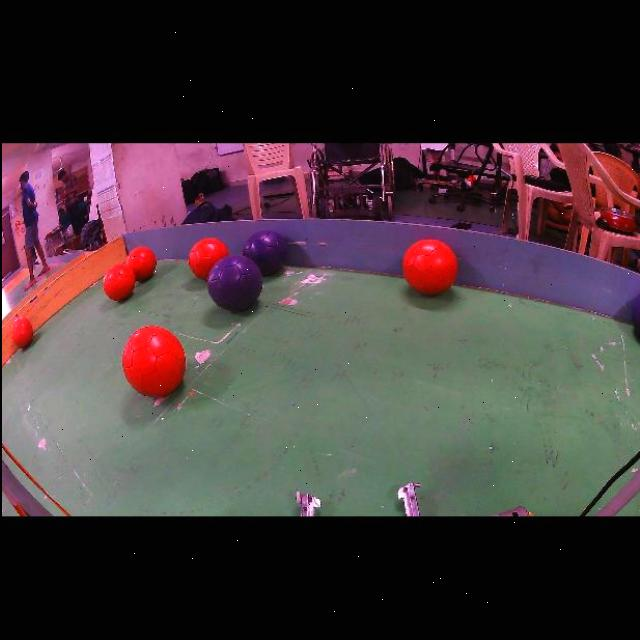P: (207, 253, 261, 310), (241, 228, 286, 274), (631, 292, 640, 338)
R: (121, 324, 186, 396), (405, 237, 460, 293), (187, 236, 228, 278), (102, 262, 134, 298), (124, 245, 155, 279), (9, 315, 31, 346)
